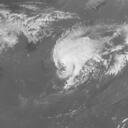cyclone: (52, 29, 101, 79)
